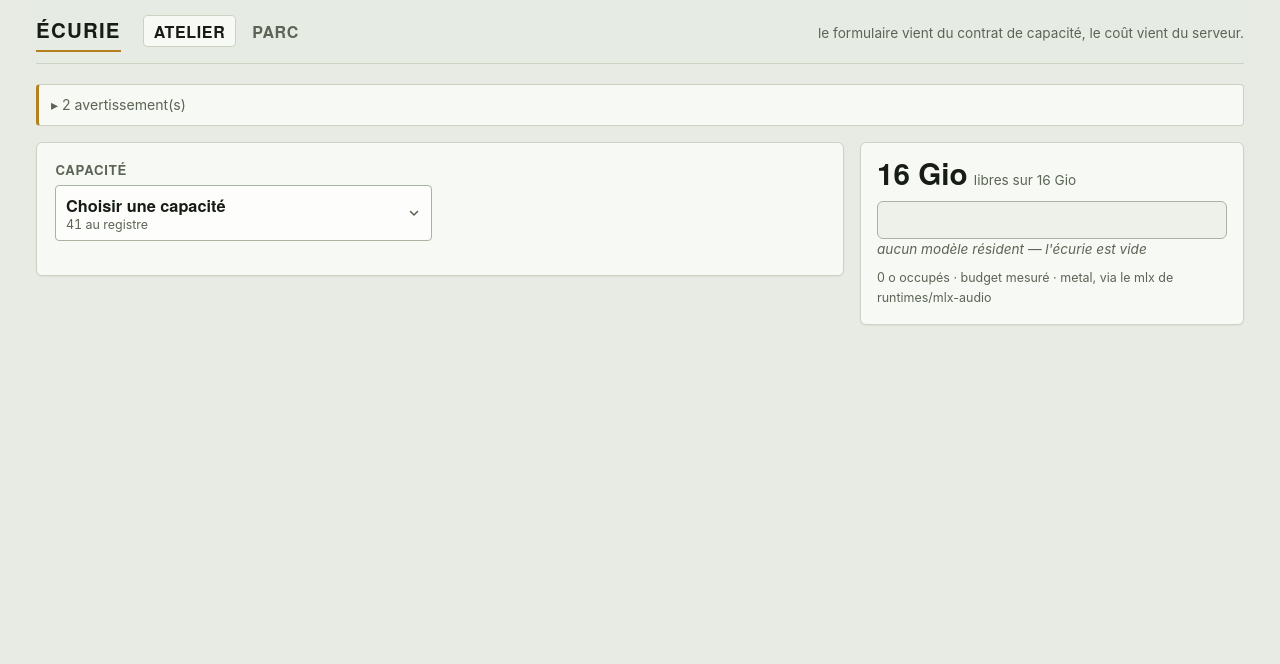
Test: ce que l'écran dit de lui-même › sans variant choisi, il n_y a rien a lancer
Click the button "Choisir une capacité 41 au registre" at (146,205), box [55,185,432,241]
(page scrolled)
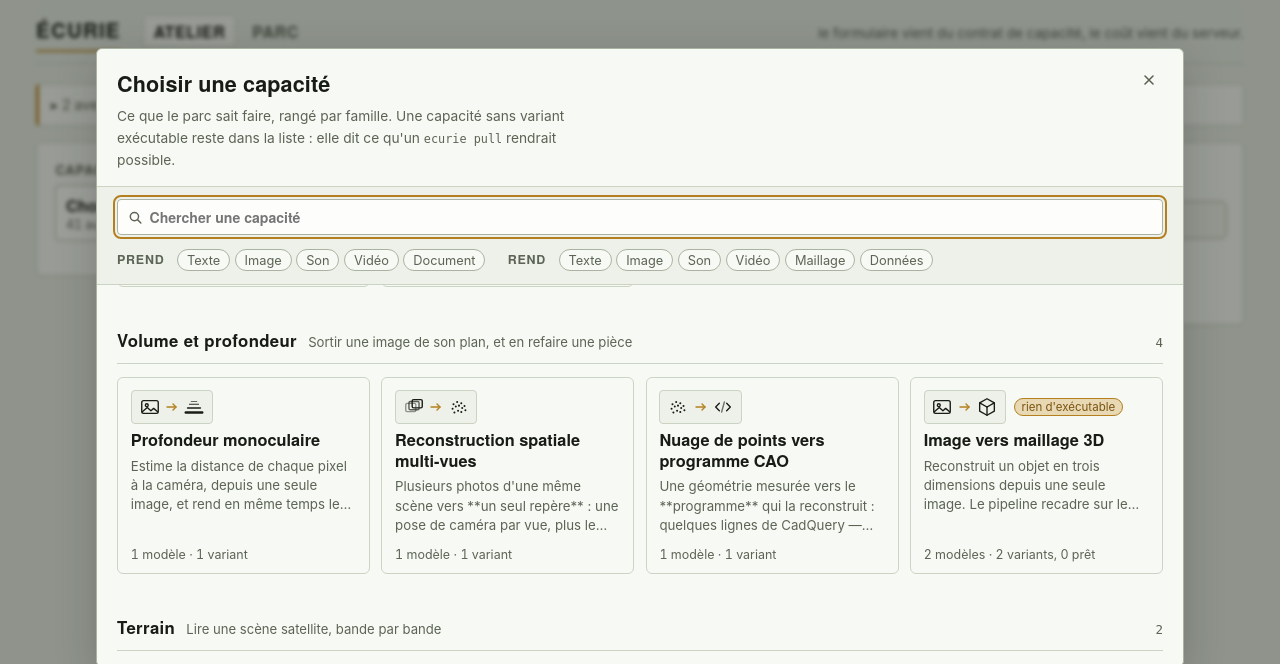
Click the button "Image vers maillage 3D" at (1036,476), box [910,377,1163,574]
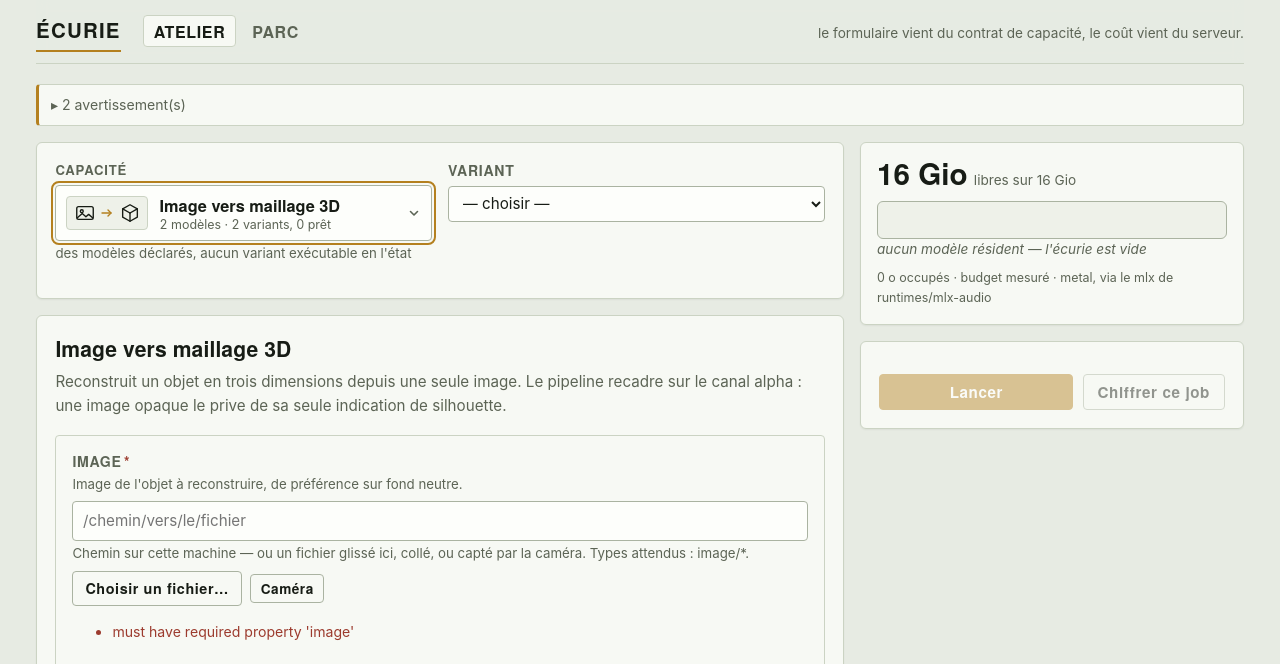
Result: the button "Lancer" is disabled at [879,374,1073,410]
